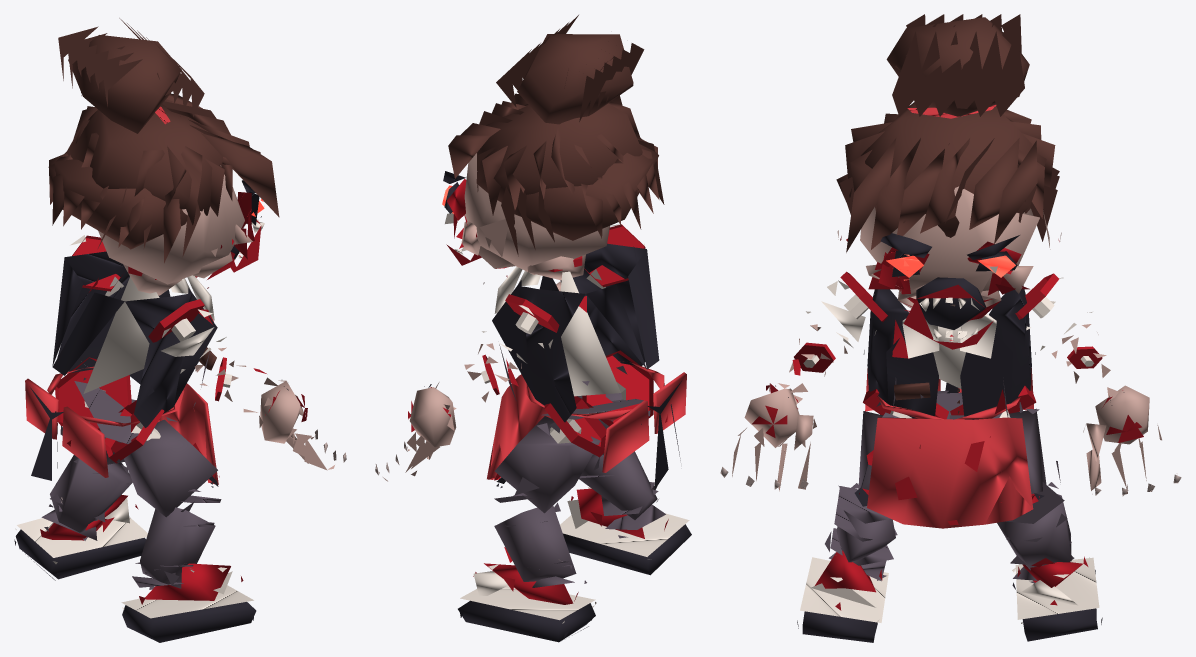
3 renders of one model, left to right at view 1: azimuth 30°, elevation 25°; view 2: azimuth 150°, elevation 25°; view 3: azimuth 270°, elevation 25°, orthographic. The views are drawn at different scales.
Visible parts, largest first — view 1: head, torso, hip, footR, footL, legR, shinR, shinL, handR, stump_legL, stump_legR, stump_armR (+2 smaller); view 2: head, torso, hip, footL, footR, legL, shinL, shinR, handL, stump_legR, stump_legL, stump_armL (+1 smaller); view 3: head, hip, torso, footR, footL, shinL, shinR, handL, handR, legL, legR, armR (+3 smaller).
Boxes of the visible parts, <box> form: head: <box>48,18,279,295</box>; torso: <box>52,251,217,427</box>; hip: <box>25,366,218,484</box>; footR: <box>121,563,256,642</box>; footL: <box>14,494,147,580</box>; legR: <box>110,417,219,517</box>; shinR: <box>132,489,221,589</box>; shinL: <box>41,455,132,540</box>; handR: <box>259,380,346,470</box>; stump_legL: <box>55,357,131,431</box>; stump_legR: <box>105,400,164,463</box>; stump_armR: <box>148,299,204,342</box>; head: <box>442,15,664,284</box>; torso: <box>492,243,659,422</box>; hip: <box>487,361,686,489</box>; footL: <box>458,559,596,642</box>; footR: <box>560,487,691,575</box>; legL: <box>493,416,600,513</box>; shinL: <box>494,493,586,587</box>; shinR: <box>579,451,665,538</box>; handL: <box>375,387,456,481</box>; stump_legR: <box>582,350,653,426</box>; stump_legL: <box>544,396,606,457</box>; stump_armL: <box>505,294,559,334</box>; head: <box>836,14,1061,349</box>; hip: <box>865,368,1033,528</box>; torso: <box>863,285,1035,419</box>; footR: <box>797,538,888,642</box>; footL: <box>1012,536,1102,641</box>; shinL: <box>997,482,1074,583</box>; shinR: <box>825,483,897,581</box>; handL: <box>1083,385,1181,496</box>; handR: <box>720,383,816,491</box>; legL: <box>1009,408,1060,510</box>; legR: <box>838,411,899,506</box>; armR: <box>799,280,876,362</box>.
Bounding box in the file's own units: 0.7375 × 1.79 × 1.26.
